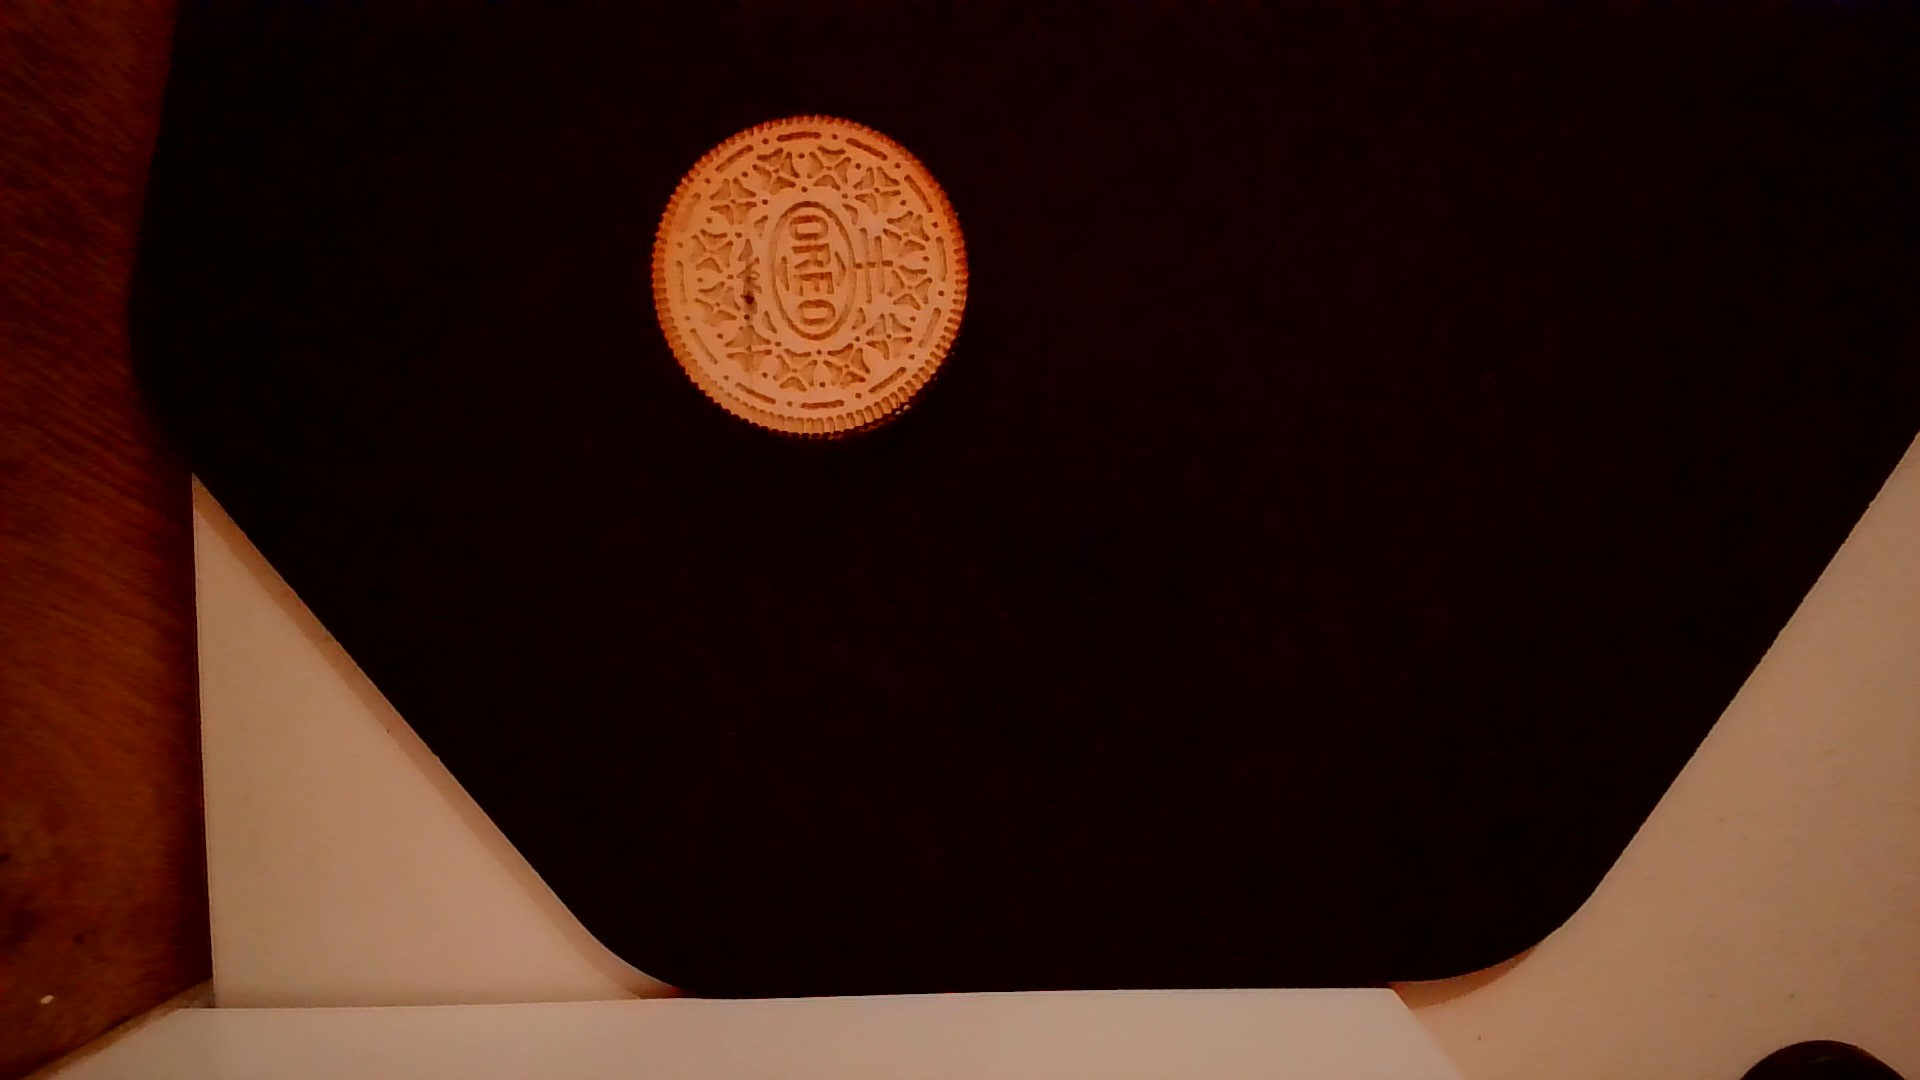Oréo: (636, 108, 975, 448)
